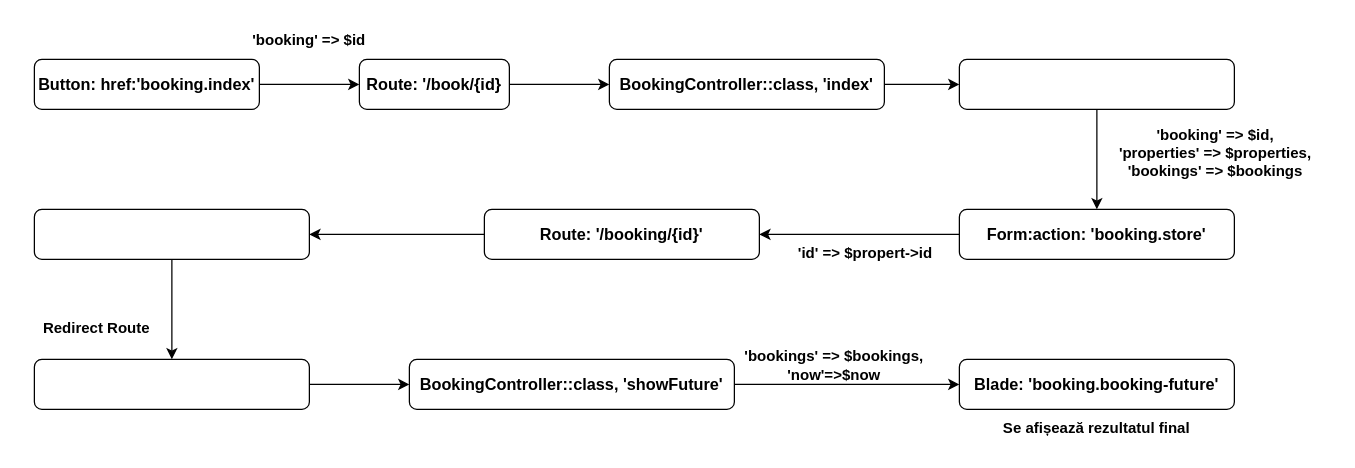
This 1355x468 diagram has some shape labels left out. The shapes that lost their labels are listed below. From the top down, each one's centre as x and y in pixels, then its label:
(1096,83): Blade: 'booking.book-room'
(171,233): BookingController::class, 'store'
(171,383): Route: 'booking.showFutre'
